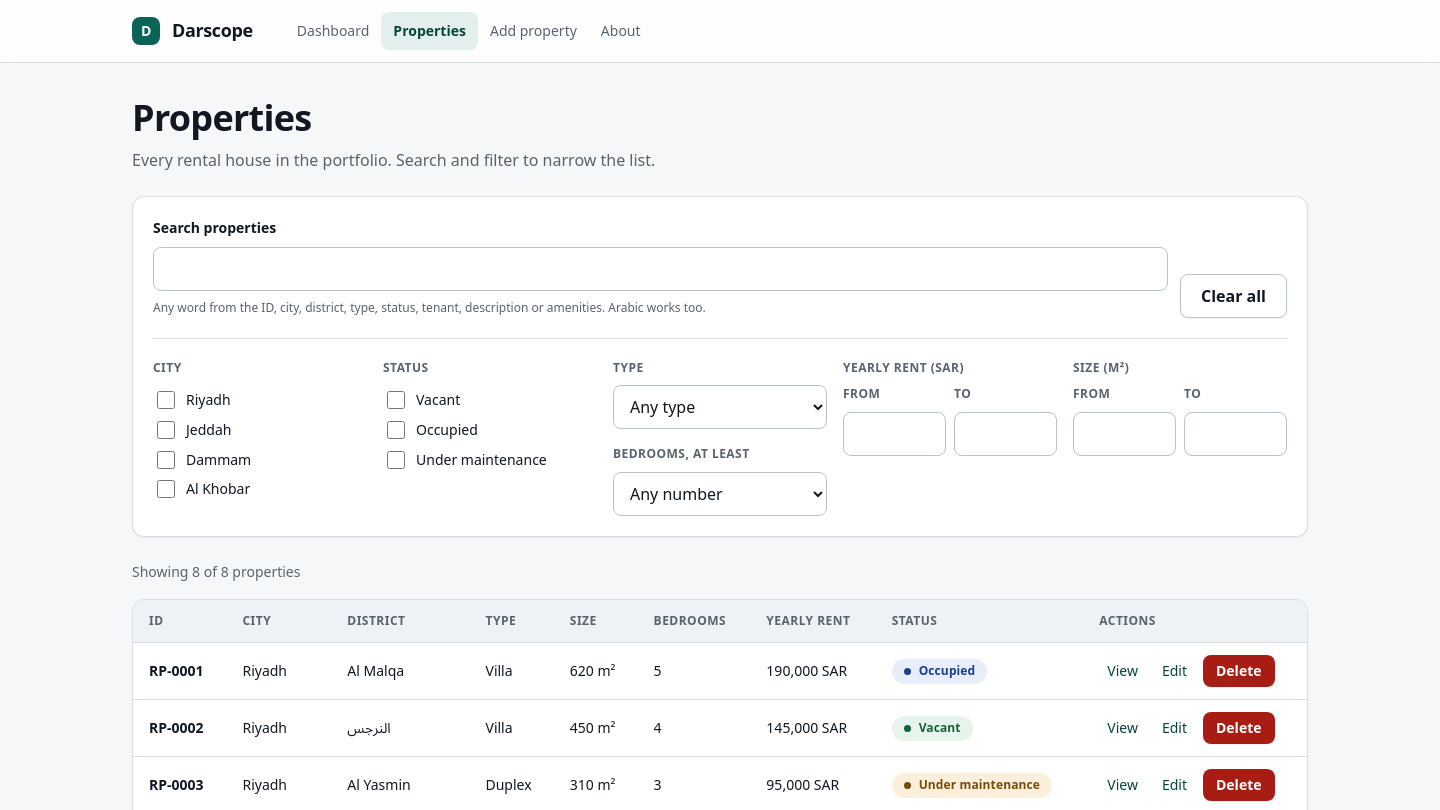
Delete from a list row (FR-DEL-01, FR-DEL-02) › names the property by ID, type, district and city before deleting it
This screenshot has width=1440, height=810.
Click the button with aria-label "Delete RP-0001".
click(1239, 671)  # box [1203,655,1274,687]
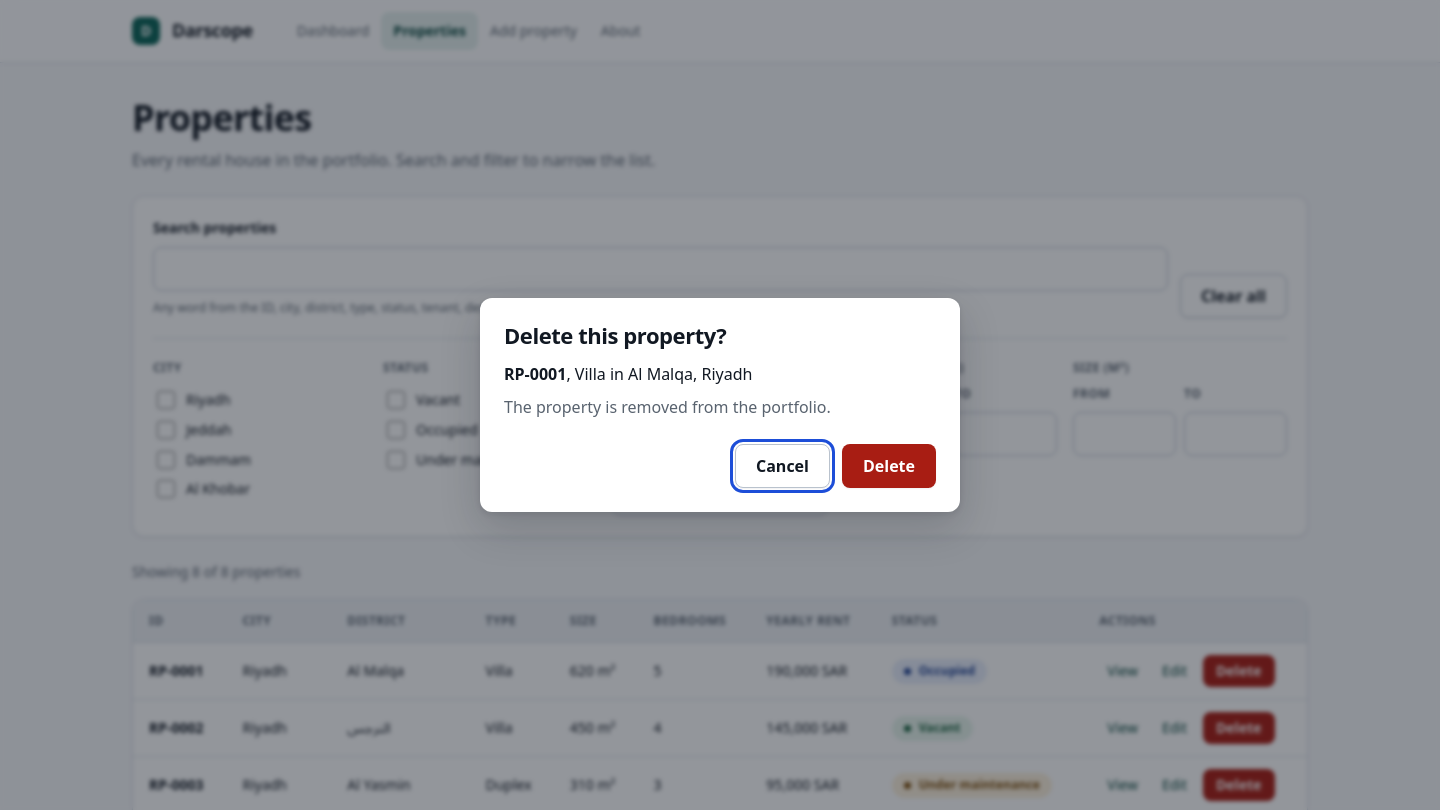
expect the text "RP-0001" is shown: met, box [504,363,566,385]
expect the text "Villa in Al Malqa, Riyadh" is shown: met, box [575,363,752,385]
